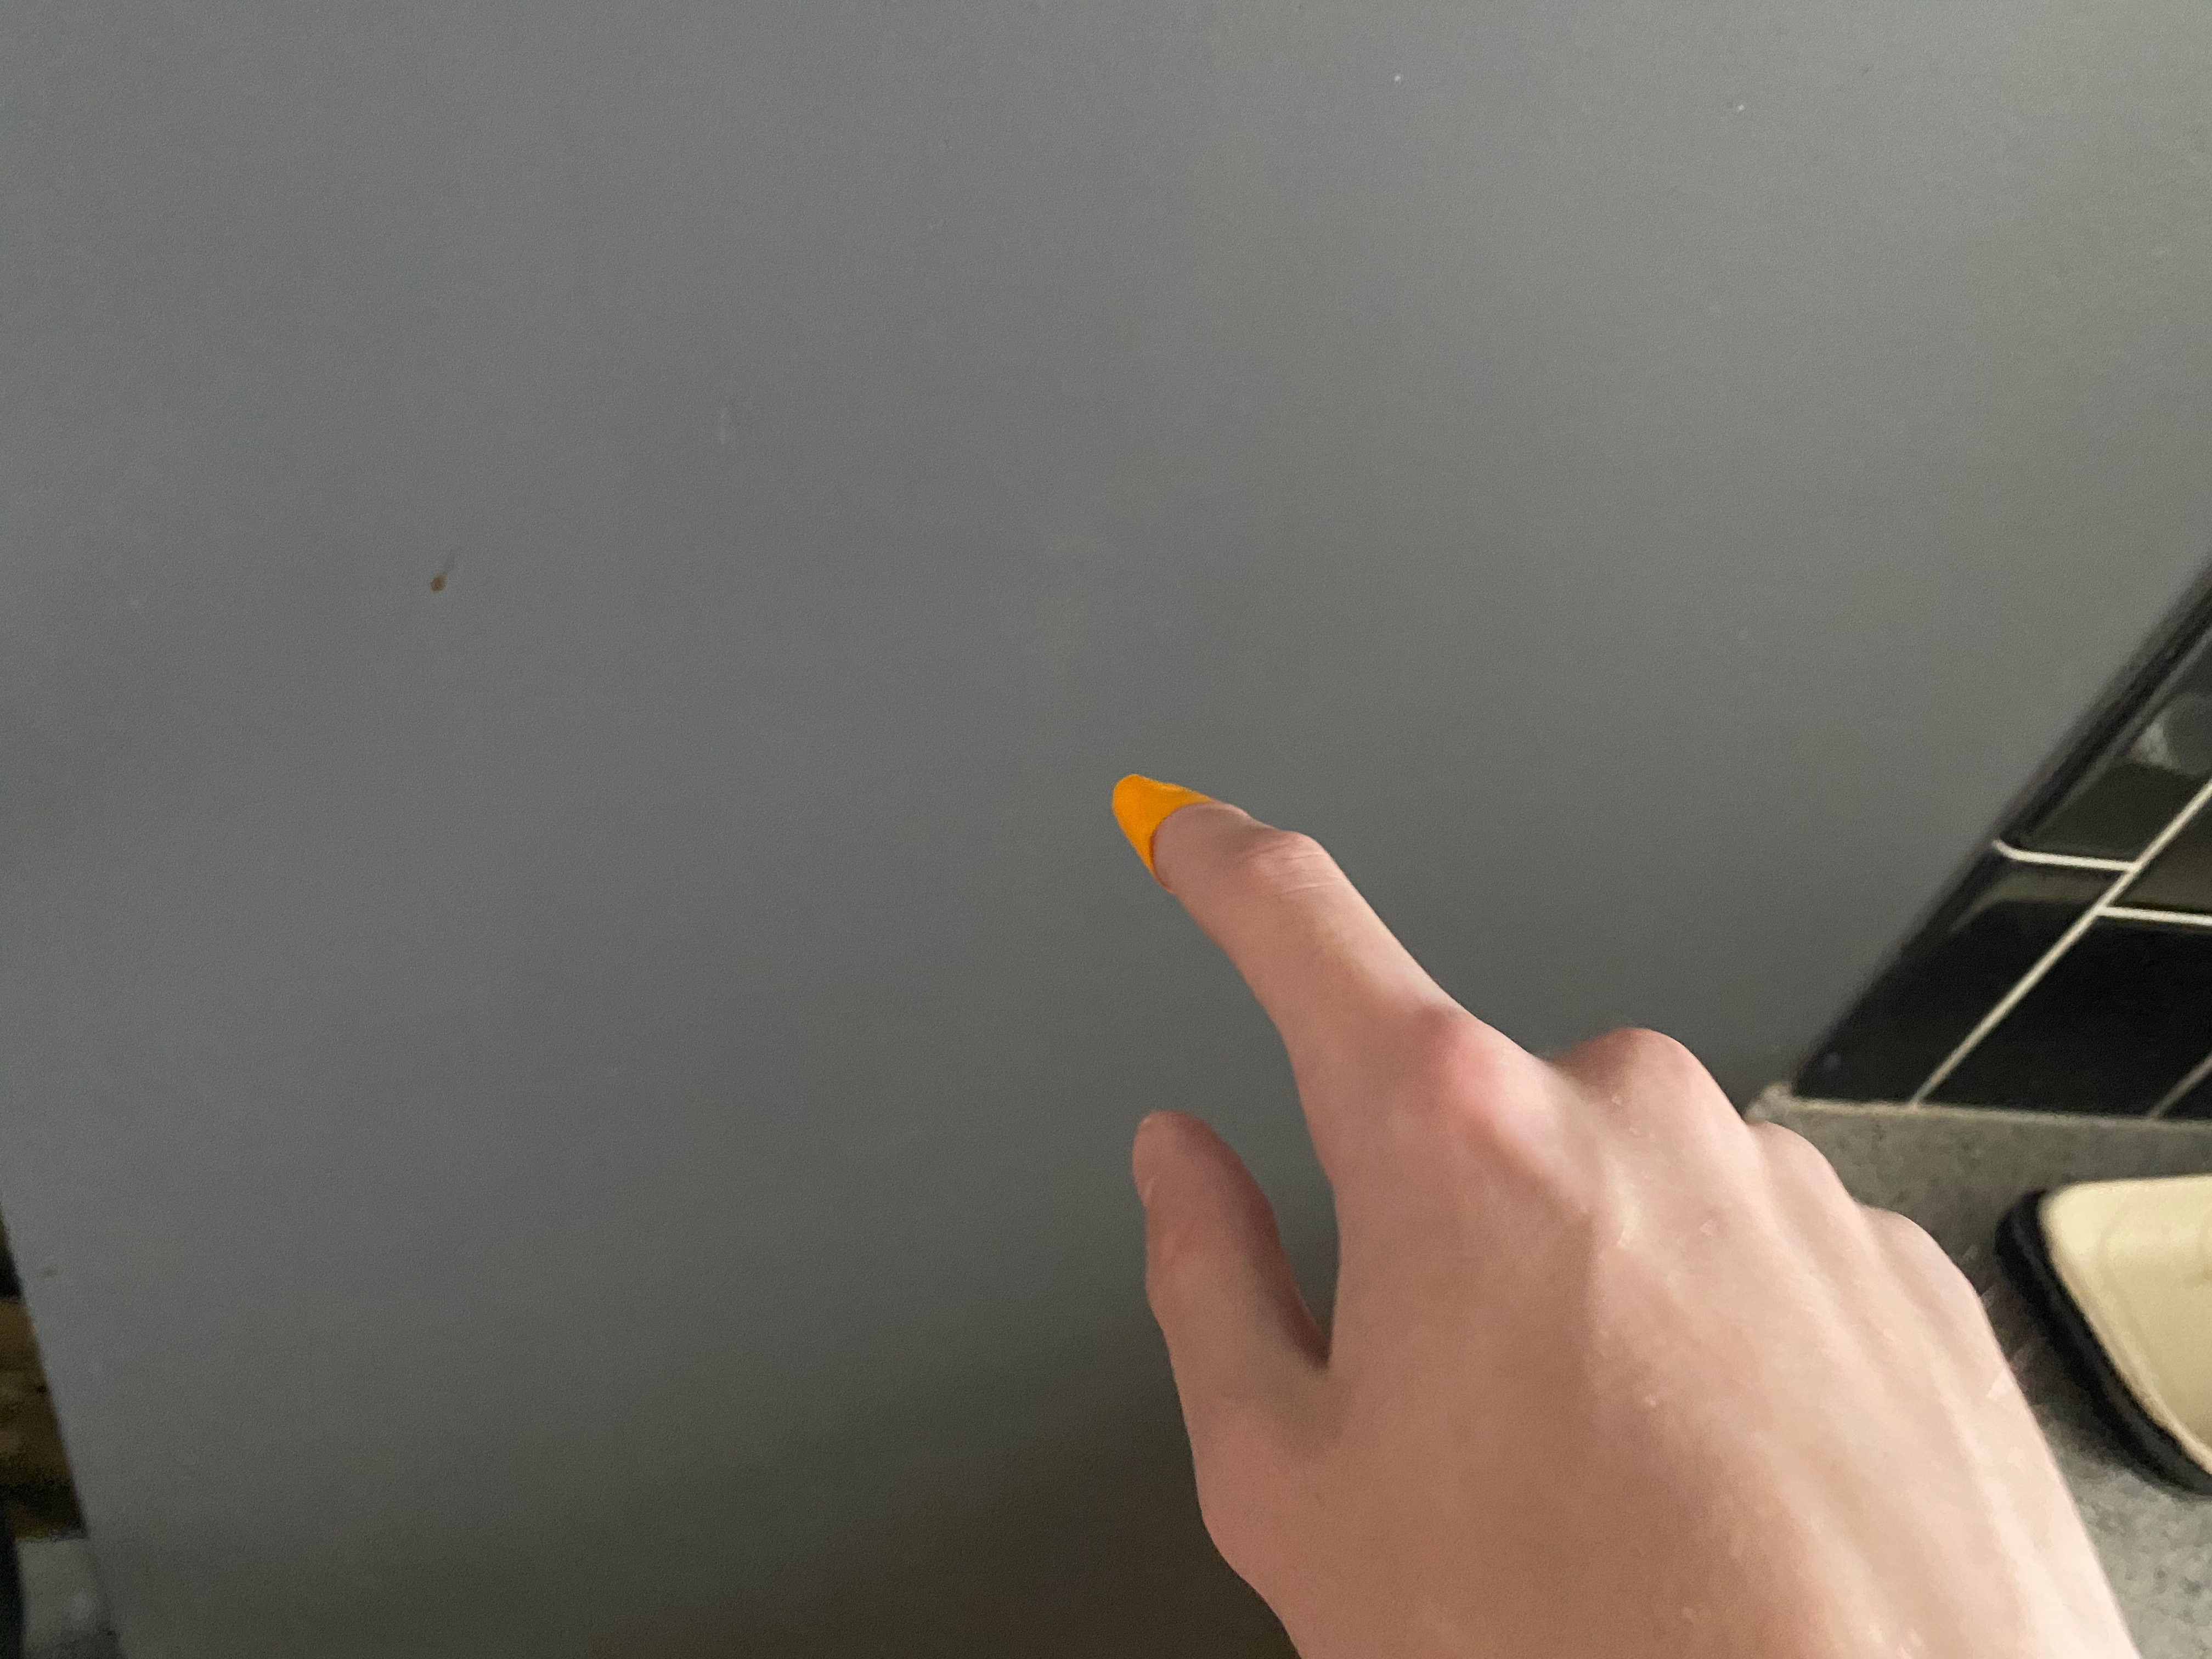fingertip: (1078, 749, 1230, 878)
